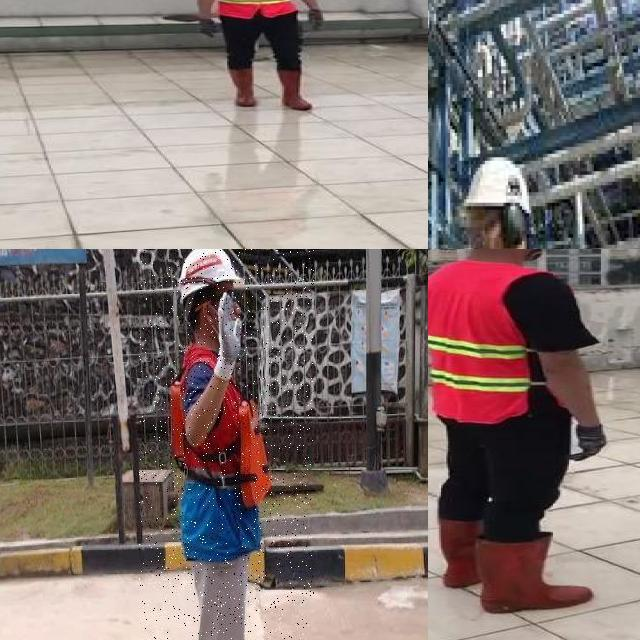Ear-protection: (499, 199, 524, 245)
boots: (471, 532, 594, 619), (434, 516, 491, 594), (275, 67, 311, 110), (227, 66, 257, 109)
hand_glove: (573, 423, 608, 462), (195, 15, 216, 39), (303, 10, 323, 33)
head_helmet: (452, 150, 532, 213), (169, 249, 248, 306)
person: (139, 249, 314, 640), (428, 249, 609, 619), (189, 0, 333, 116), (459, 164, 591, 249)
vest: (428, 256, 545, 426), (167, 344, 278, 521), (212, 0, 298, 18)
